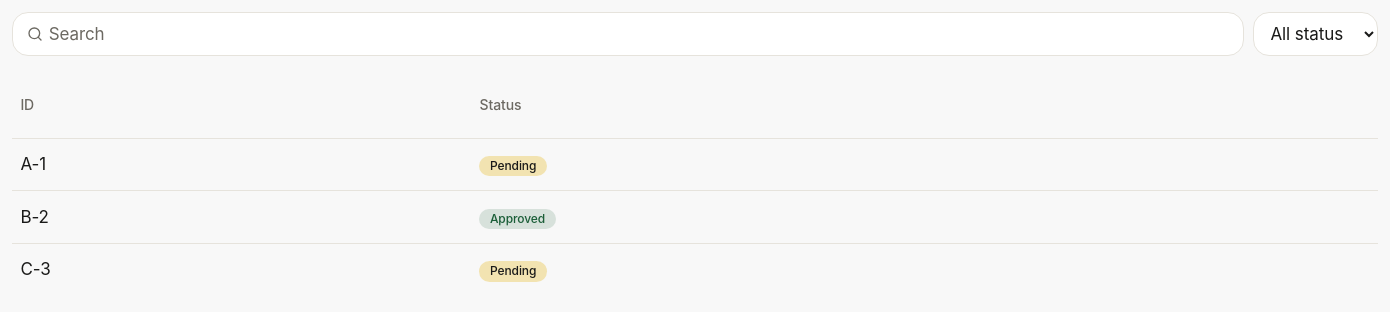
Scenario: DataTable › searches, filters and shows an empty state
Check: the number of rows is 4, box [12,73,1378,138]; [12,139,1378,191]; [12,191,1378,243]; [12,243,1378,295]
In the search field: (628, 34) [12,12,1244,56], type "B-2"
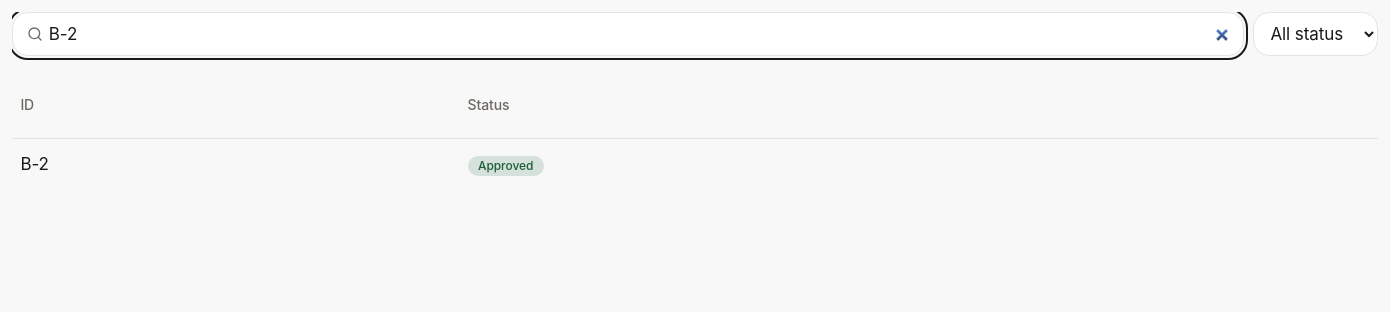
Check: the number of rows is 2, box [12,73,1378,138]; [12,139,1378,190]
Clear the search field: (628, 34) [12,12,1244,56]
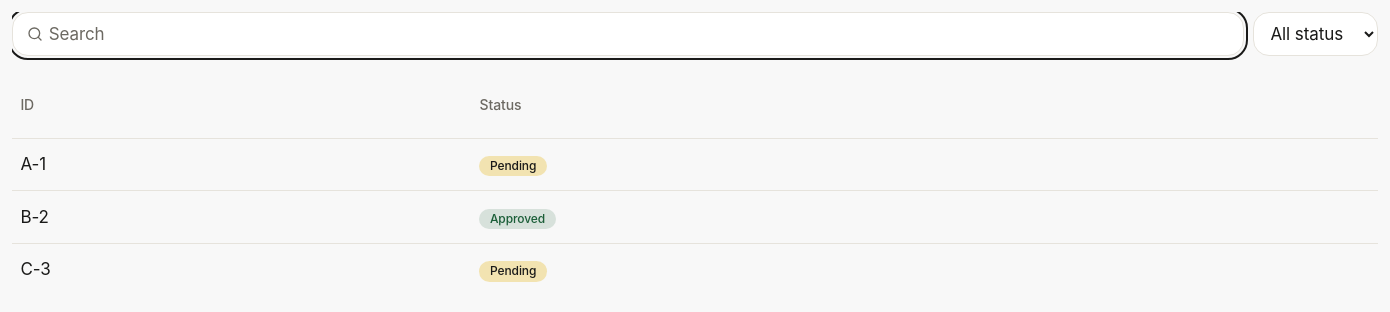
Select "Pending" in the dropdown: (1315, 34) [1253,12,1378,56]
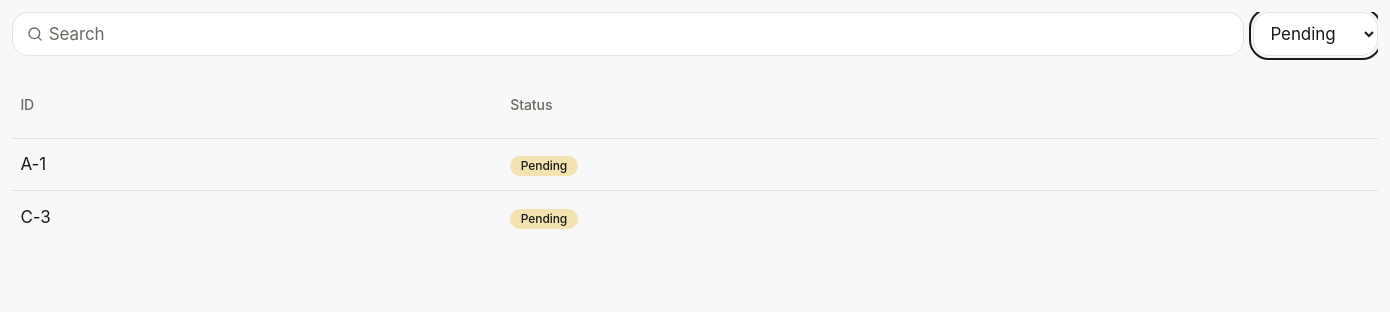
Check: the number of rows is 3, box [12,73,1378,138]; [12,139,1378,191]; [12,191,1378,243]
In the search field: (628, 34) [12,12,1244,56], type "zzz"
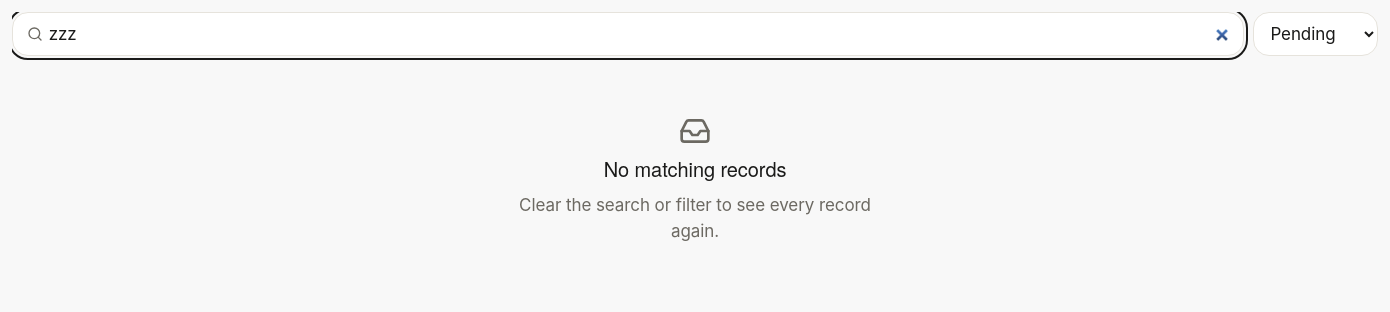
Check: the heading "No matching records" is shown, box [604,155,786,183]
